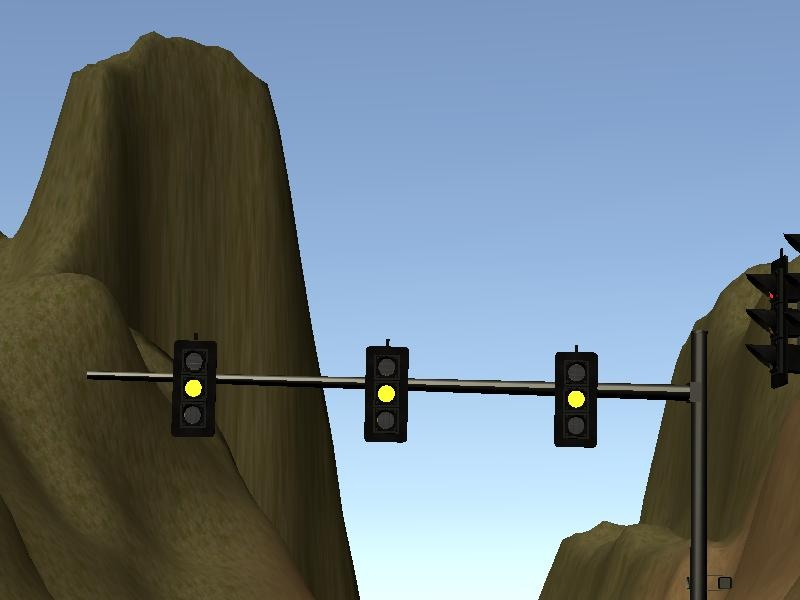yellow: (362, 343, 412, 446), (169, 339, 219, 441), (551, 349, 600, 452)
